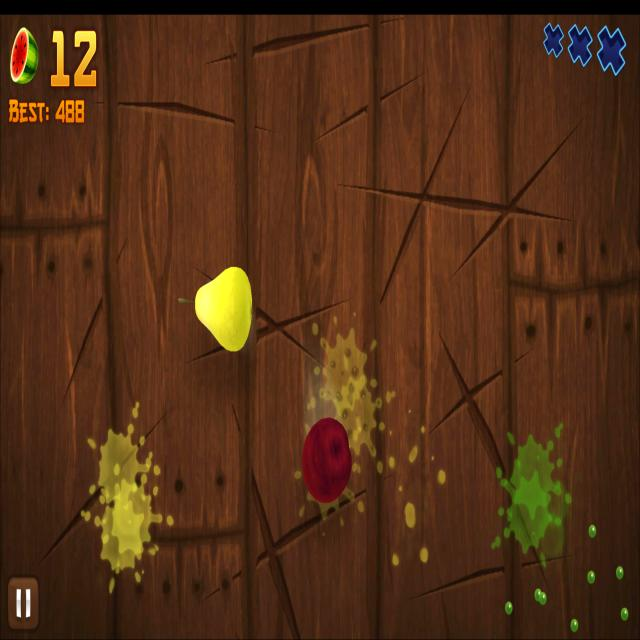fruit: (195, 264, 253, 352), (302, 416, 352, 504)
